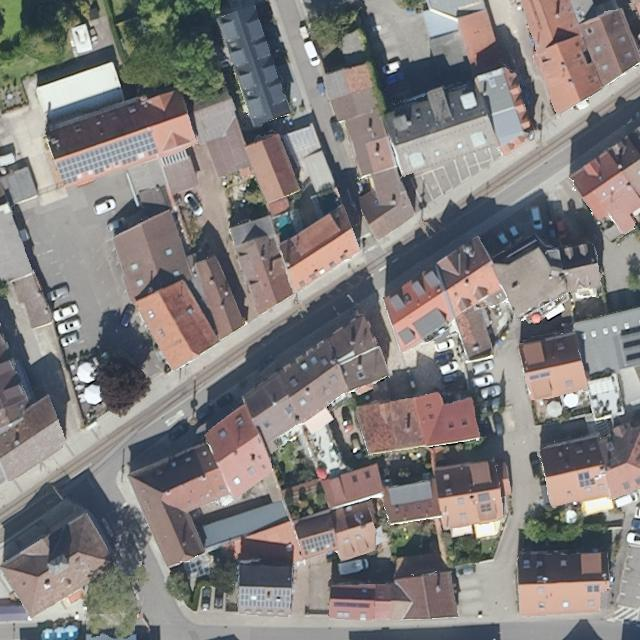PV: (54, 127, 162, 188), (234, 585, 293, 613), (299, 530, 337, 557), (616, 325, 639, 367), (575, 470, 598, 489)
